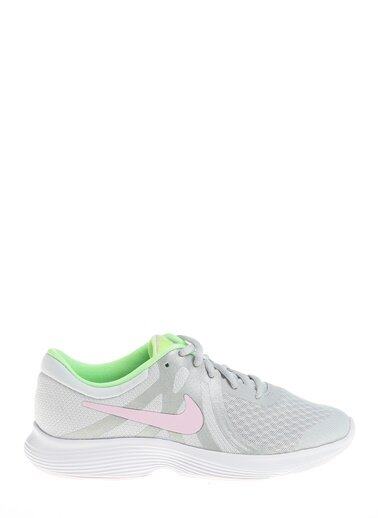nike: (81, 390, 206, 439)
